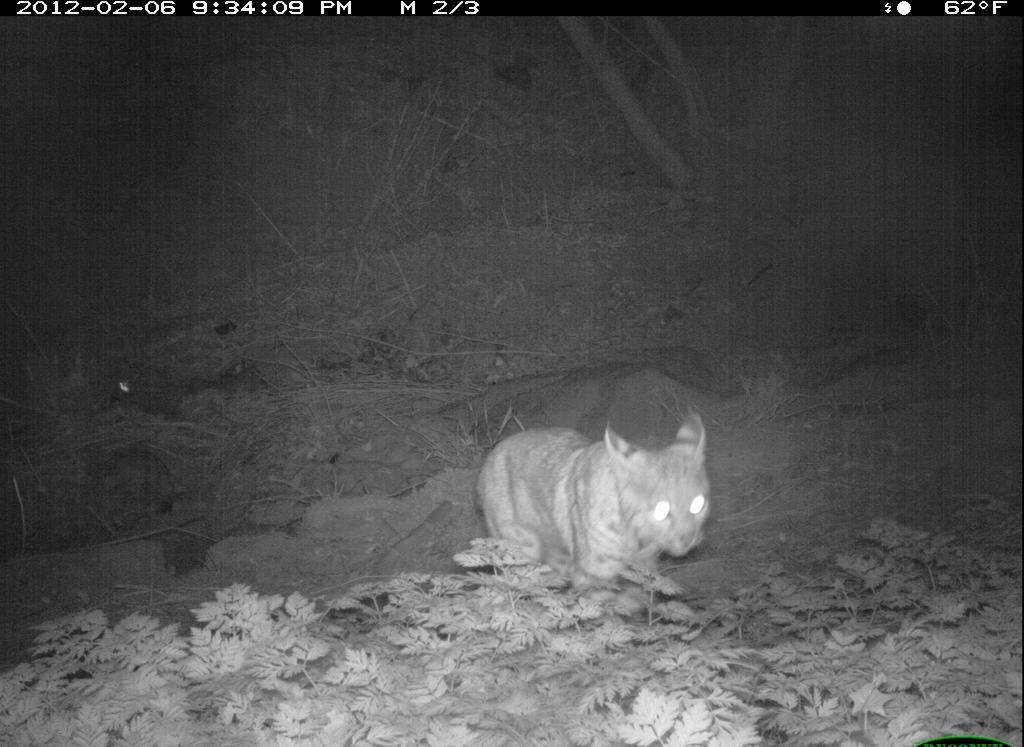bobcat: (473, 402, 729, 615)
